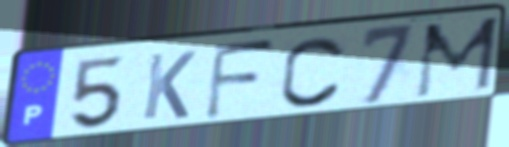5: (70, 54, 126, 130)
7: (358, 19, 419, 108)
C: (277, 34, 349, 110)
F: (201, 38, 279, 123)
K: (139, 48, 199, 123)
M: (412, 13, 503, 101)
